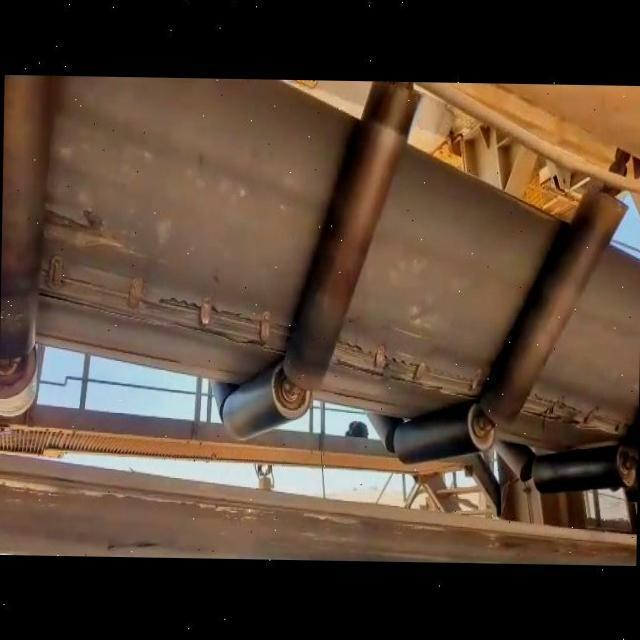Tear: (42, 195, 294, 353), (327, 306, 482, 402), (522, 388, 632, 446)
